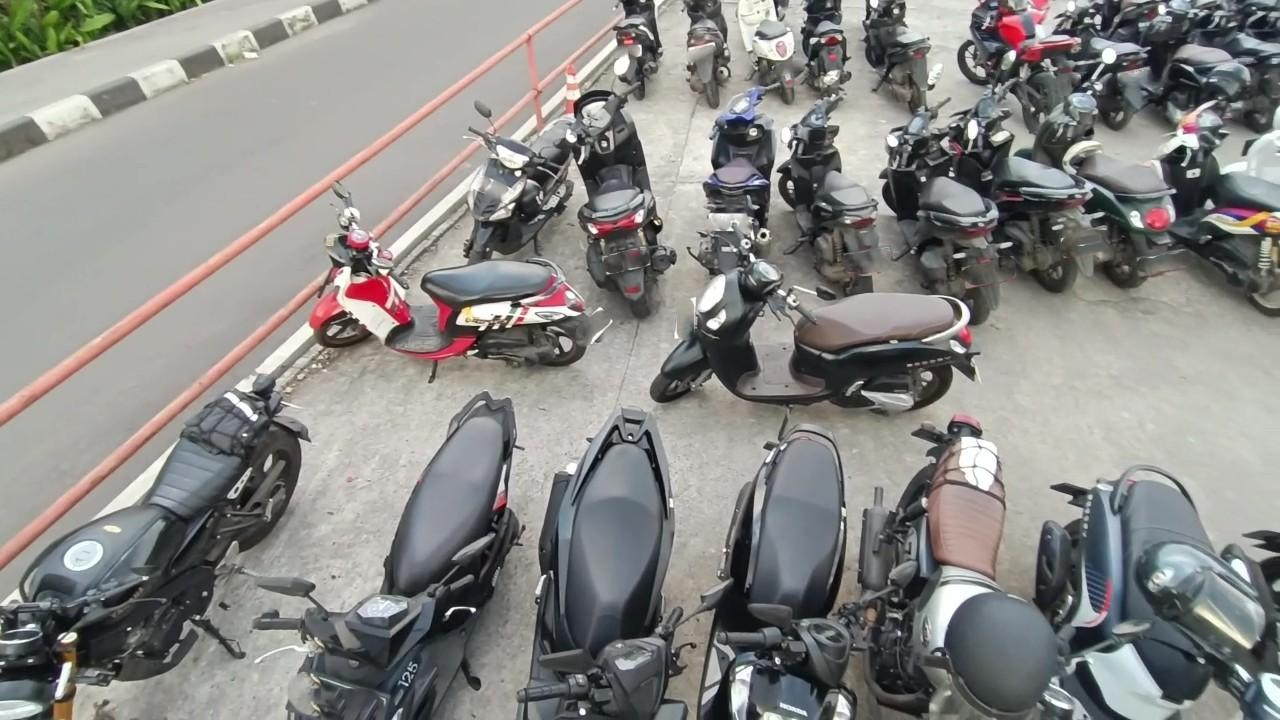motorcycle: (0, 370, 312, 720), (250, 387, 527, 720), (857, 413, 1096, 720), (656, 226, 984, 424), (691, 417, 898, 720), (1034, 467, 1280, 720), (310, 180, 599, 376), (526, 404, 694, 720), (1021, 49, 1172, 304), (876, 64, 1008, 329), (1148, 64, 1280, 322), (947, 53, 1086, 295), (559, 59, 683, 309), (770, 71, 893, 301), (674, 76, 783, 300), (463, 103, 577, 267), (960, 0, 1091, 122), (1037, 0, 1151, 129), (862, 0, 940, 123), (731, 0, 804, 103), (676, 0, 741, 107), (797, 0, 859, 109), (599, 0, 667, 99)
